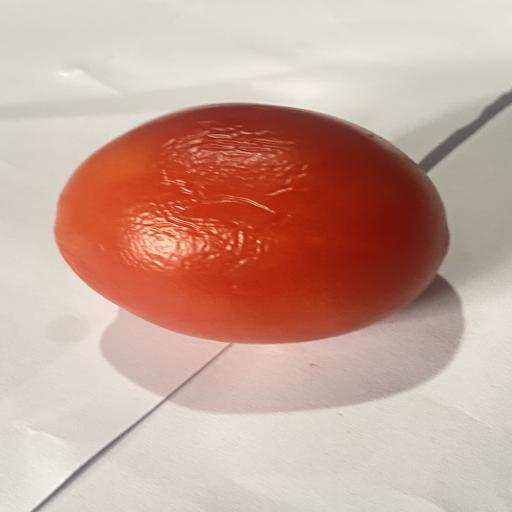spoiled: (54, 103, 449, 343)
